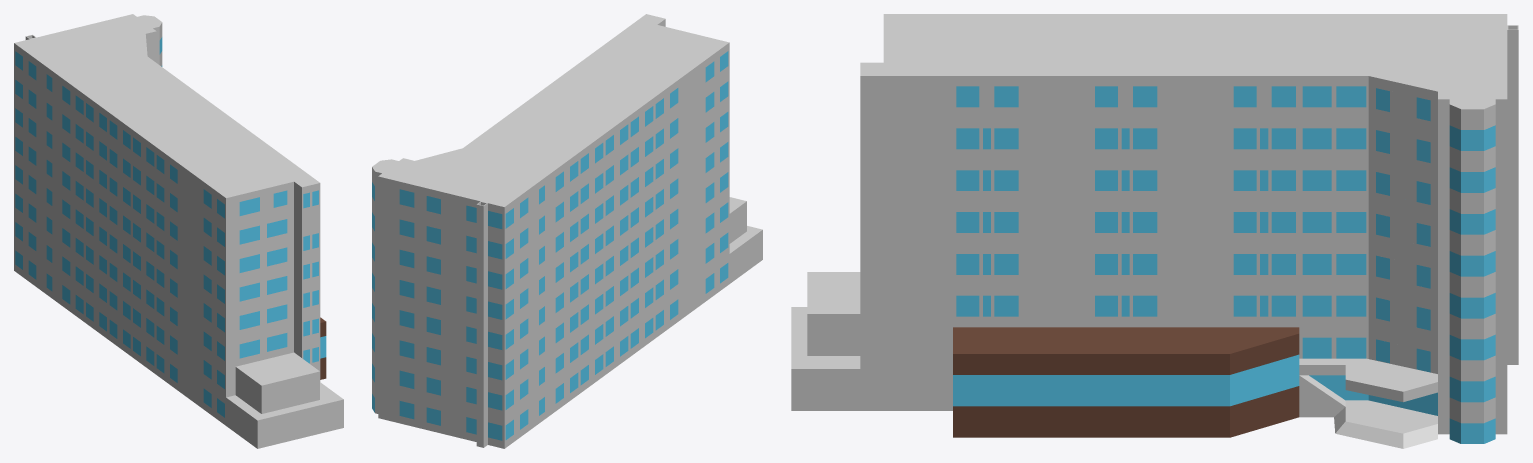
The model's file is OkUi.glb.
3 renders of one model, left to right at view 1: azimuth 30°, elevation 25°; view 2: azimuth 150°, elevation 25°; view 3: azimuth 270°, elevation 25°, orthographic. The views are drawn at different scales.
Visible parts, largest first — view 1: Main, Window; view 2: Main, Window; view 3: Main, Window, Front.
Part boxes in pixels (bbox=[...]): Main: bbox=[14, 14, 343, 448]; Window: bbox=[15, 37, 326, 417]; Main: bbox=[372, 14, 762, 448]; Window: bbox=[372, 51, 728, 440]; Main: bbox=[791, 14, 1518, 448]; Window: bbox=[953, 86, 1495, 443]; Front: bbox=[953, 327, 1299, 437].
Bounding box in the file's own units: 20.5 × 32 × 63.
